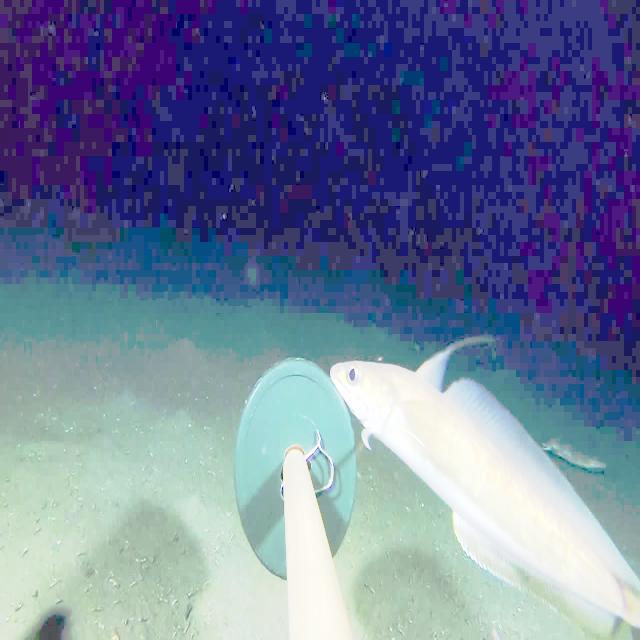fish: (322, 289, 640, 639), (540, 414, 617, 492)
pole: (235, 350, 361, 639)
